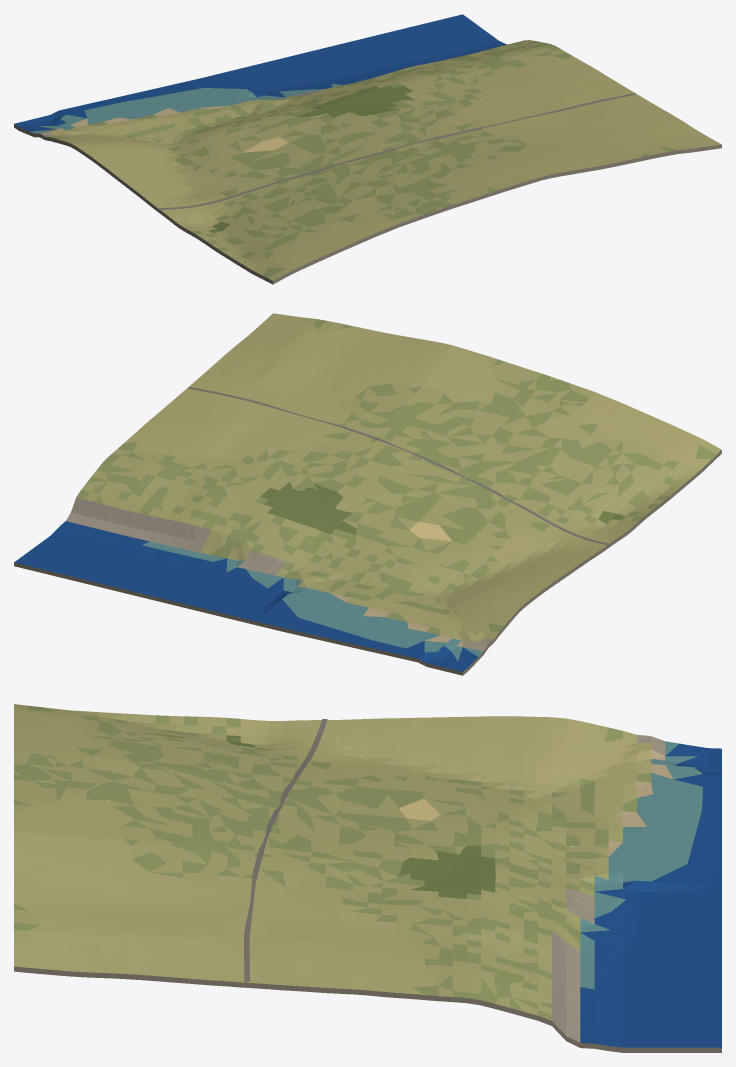
File: parca_+4_+2-uzak.glb
3 renders of one model, top to bottom at view 1: azimuth 30°, elevation 25°; view 2: azimuth 150°, elevation 25°; view 3: azimuth 270°, elevation 25°, orthographic. The views are drawn at different scales.
Visible parts, largest first — view 1: parca_+4_+2_arazi_uzak, parca_+4_+2_yollar_uzak; view 2: parca_+4_+2_arazi_uzak, parca_+4_+2_yollar_uzak; view 3: parca_+4_+2_arazi_uzak, parca_+4_+2_yollar_uzak.
Boxes of the visible parts, box(x1,y1,x2,y2) form: parca_+4_+2_arazi_uzak: box(14, 14, 721, 284); parca_+4_+2_yollar_uzak: box(158, 93, 636, 209); parca_+4_+2_arazi_uzak: box(14, 313, 721, 675); parca_+4_+2_yollar_uzak: box(188, 387, 609, 545); parca_+4_+2_arazi_uzak: box(14, 704, 721, 1052); parca_+4_+2_yollar_uzak: box(244, 718, 327, 981).
Size of the model in its own units: 1003 by 160 by 1000.
